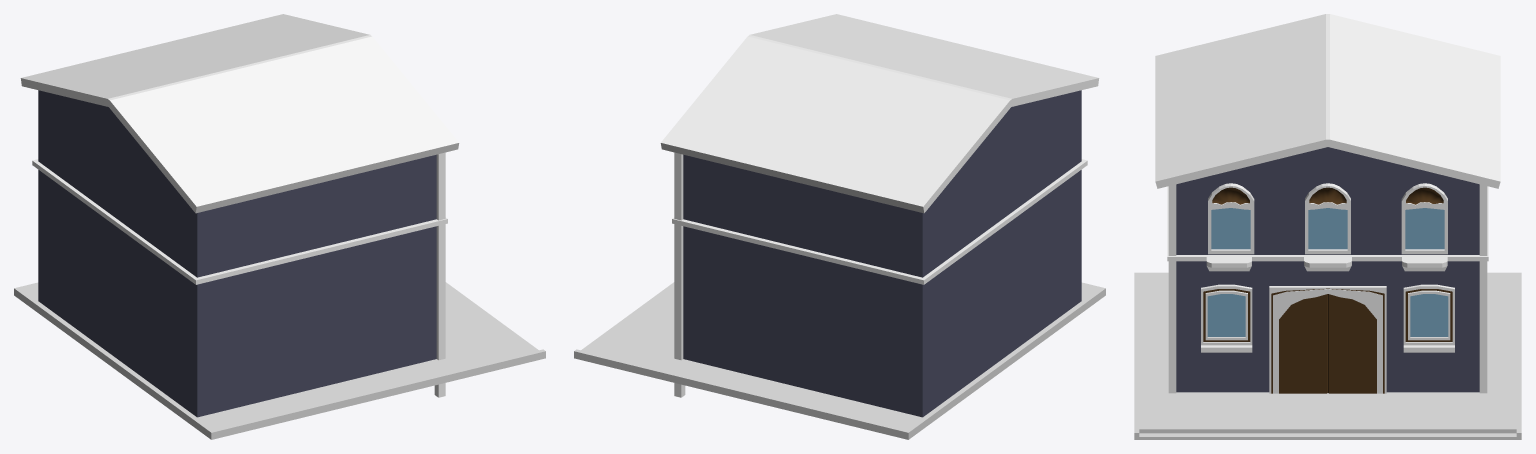
File: apartment2.dae
3 renders of one model, left to right at view 1: azimuth 30°, elevation 25°; view 2: azimuth 150°, elevation 25°; view 3: azimuth 270°, elevation 25°, orthographic.
Parts seen in each view (by area): view 1: Cube_018; view 2: Cube_018; view 3: Cube_018.
Boxes of the visible parts, x1=… form: Cube_018: x1=14, y1=14, x2=545, y2=439; Cube_018: x1=574, y1=14, x2=1105, y2=439; Cube_018: x1=1134, y1=14, x2=1521, y2=439.
Bounding box in the file's own units: 64.34 × 65 × 54.36.
